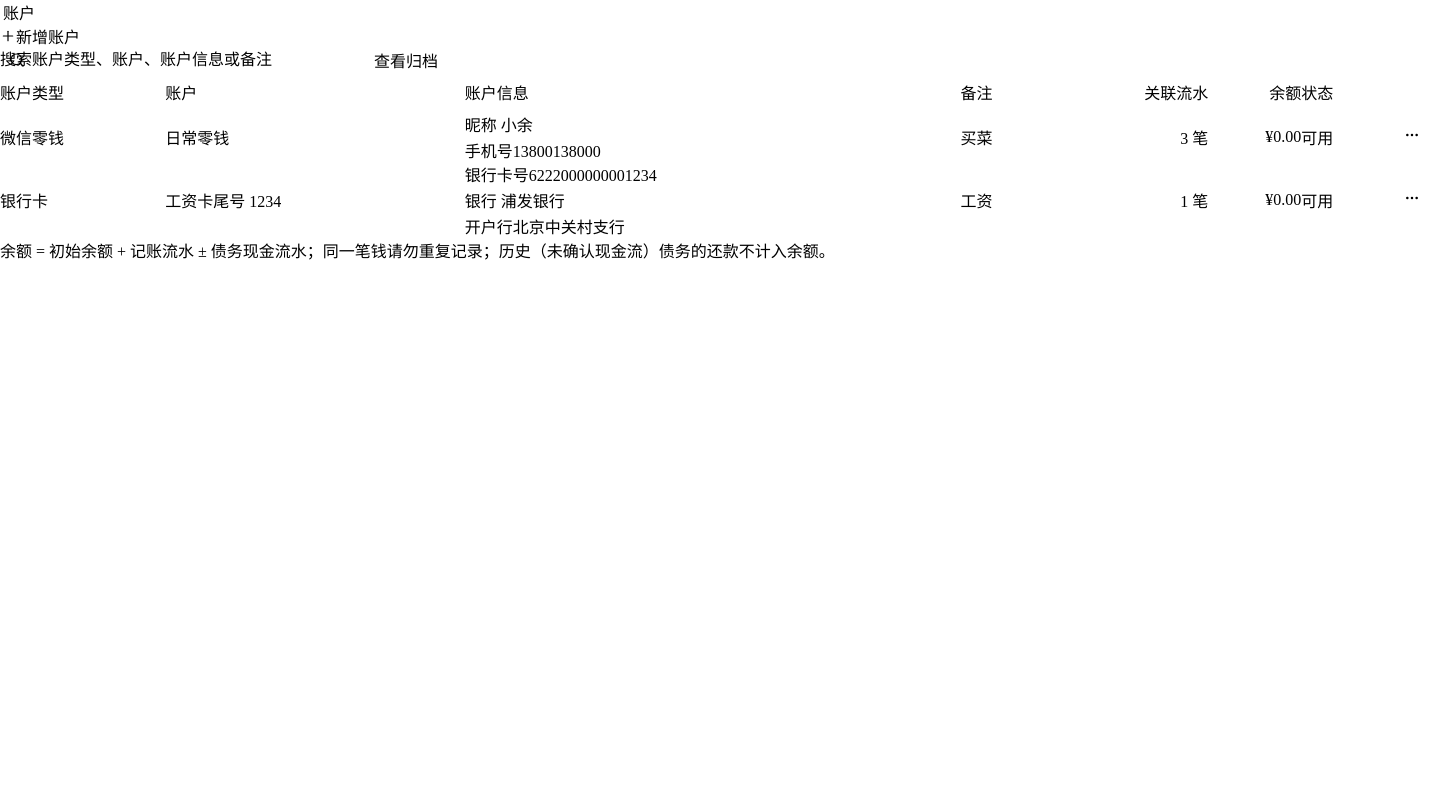
AccountWorkspace › still requires a name for 现金
The image size is (1440, 810).
Step 1. Click the button "新增账户" → [40, 36], box [0,24,80,48]
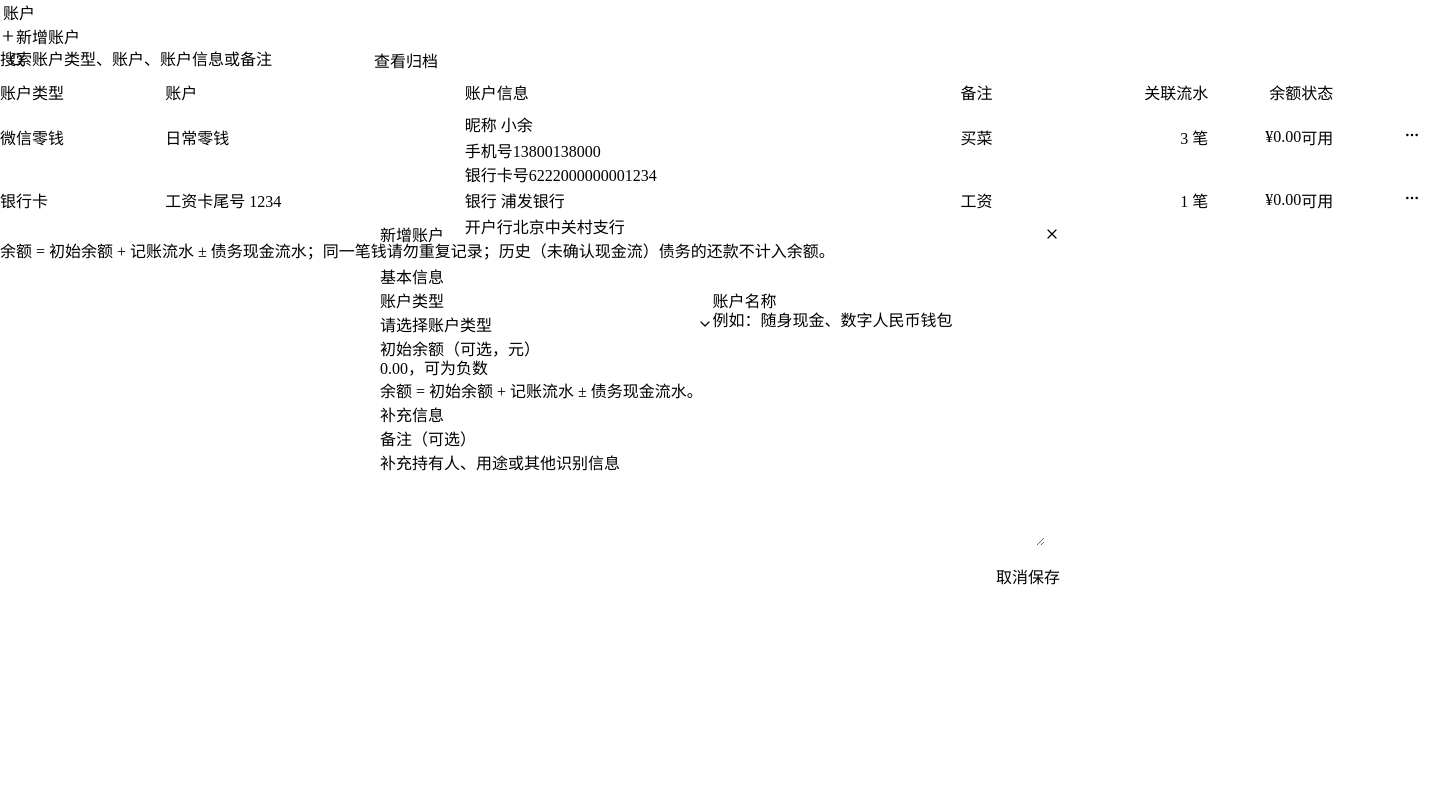
Step 2. Click the dropdown labelled "账户类型" → [436, 326], box [380,312,712,336]
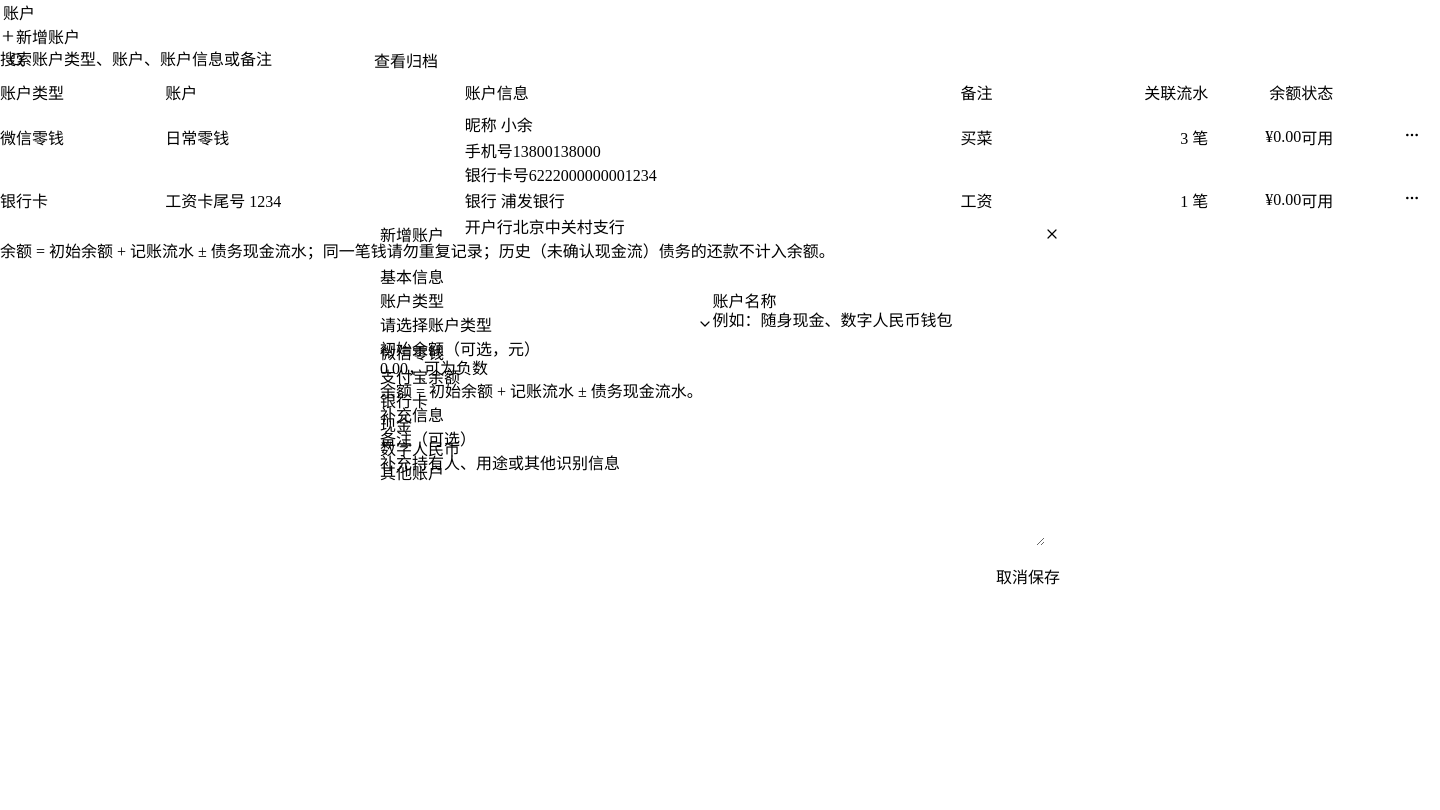
Step 3. Click the option "现金" → [396, 426], box [380,417,412,434]
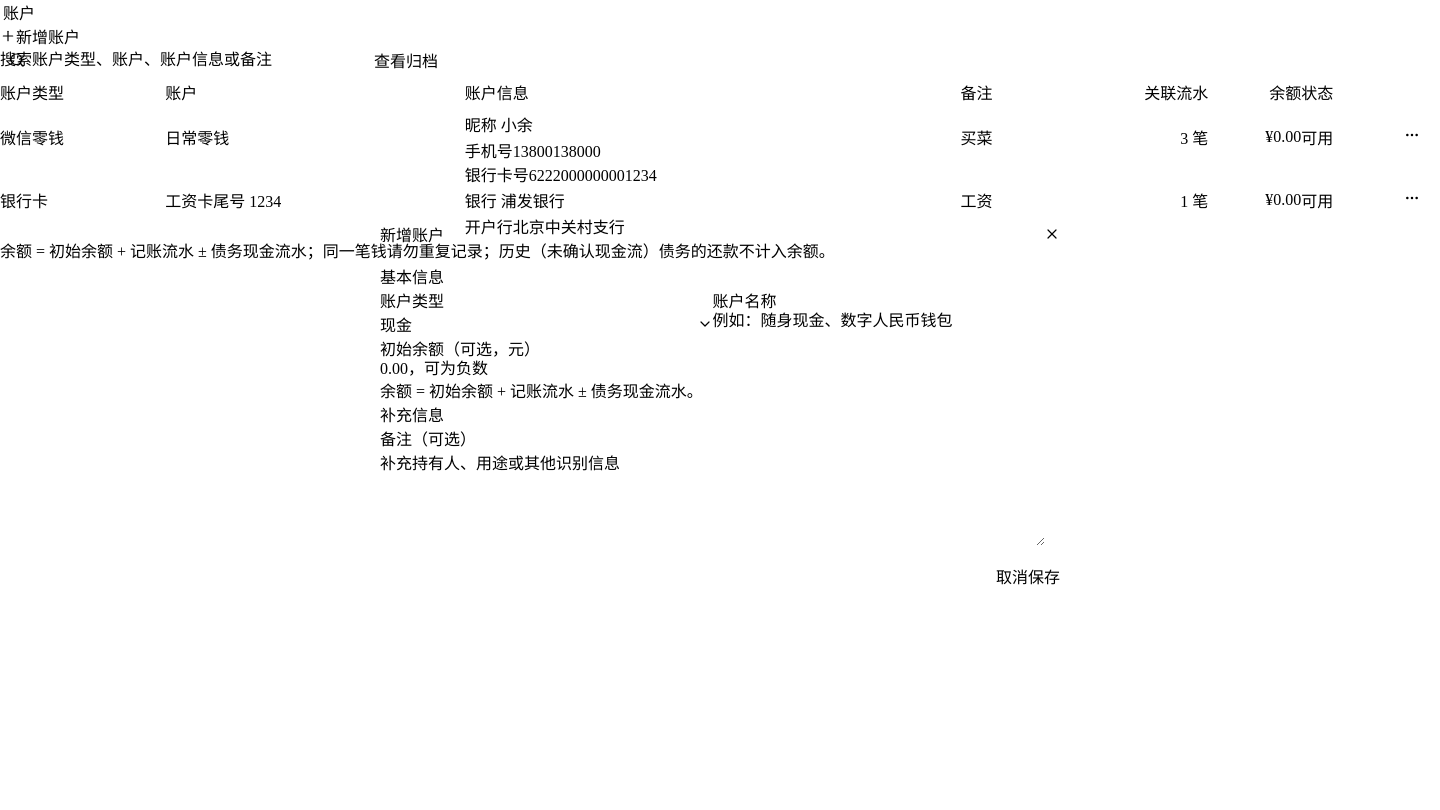
Check: the field labelled "账户名称" is empty, box [712,312,1045,330]
Step 4. Click the button "保存" → [1044, 576], box [1028,564,1060,588]
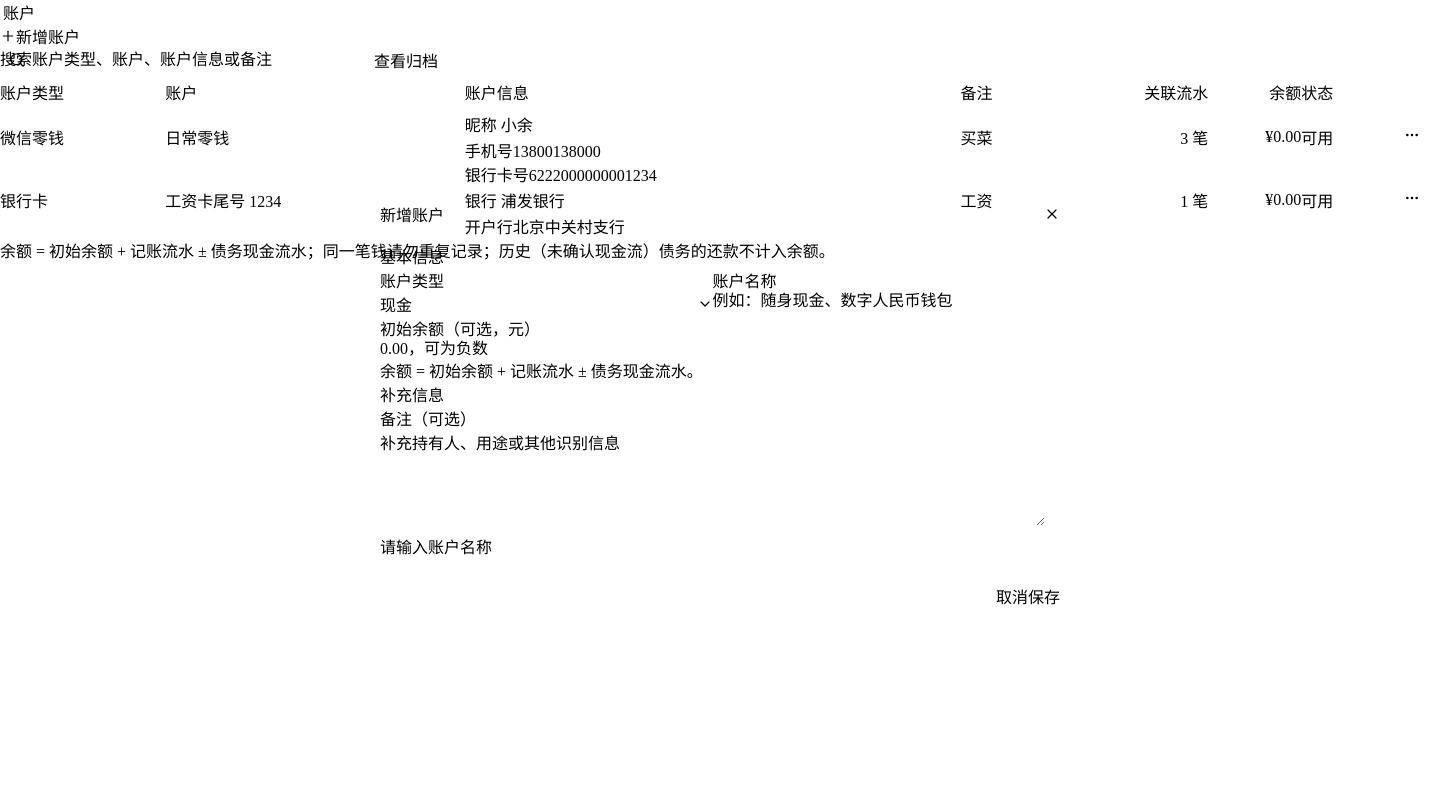
Check: the message reads "请输入账户名称", box [380,539,492,556]
